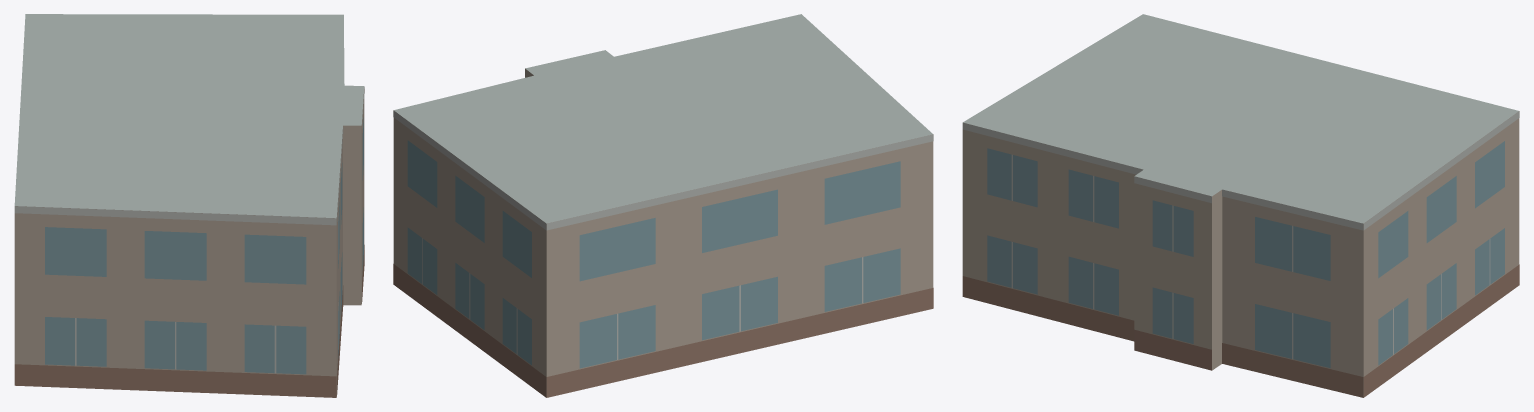
Rendered from survey-upis-32771620.glb.
3 renders of one model, left to right at view 1: azimuth 30°, elevation 25°; view 2: azimuth 150°, elevation 25°; view 3: azimuth 270°, elevation 25°, orthographic. The views are drawn at different scales.
Parts seen in each view (by area): view 1: survey-upis-32771620.tmp; view 2: survey-upis-32771620.tmp; view 3: survey-upis-32771620.tmp.
Part boxes in pixels (x1,y1,x2,y2): survey-upis-32771620.tmp: (14, 14, 364, 397); survey-upis-32771620.tmp: (393, 14, 933, 397); survey-upis-32771620.tmp: (962, 14, 1519, 397).
Size of the model in its own units: 15.74 by 6.1 by 17.67.
